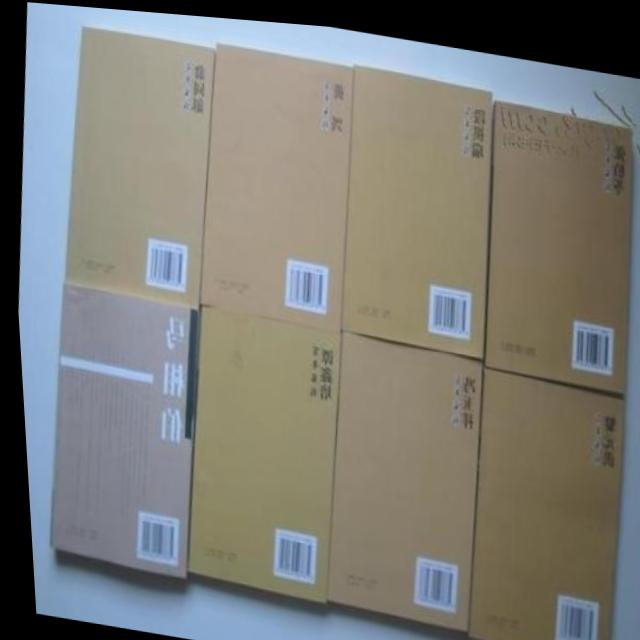box: (318, 325, 480, 627), (180, 304, 338, 599), (42, 281, 196, 578), (461, 358, 621, 640), (196, 39, 352, 326), (338, 60, 491, 351), (481, 93, 631, 388), (62, 24, 216, 305)
